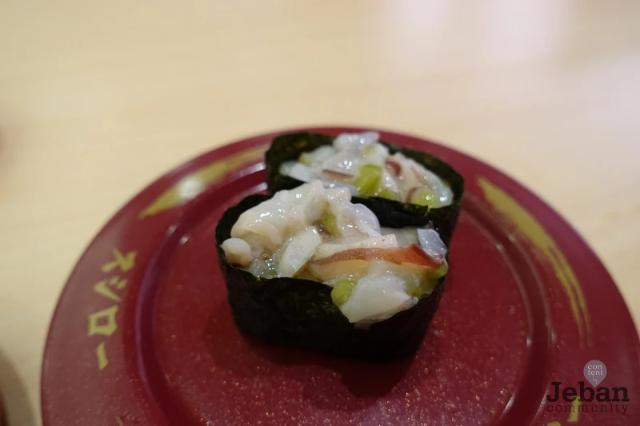janred: (64, 127, 630, 426)
